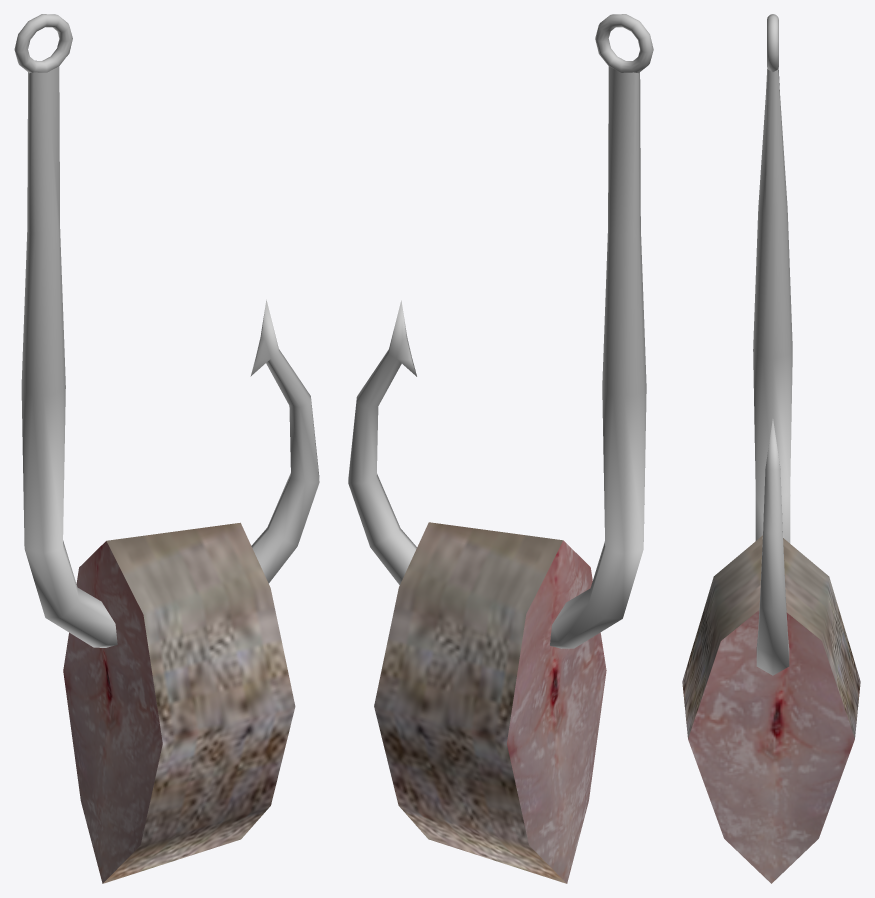
The model's file is Bait_WalleyePollock.fbx.
3 views of the same model, side by side, from view 1: azimuth 30°, elevation 25°; view 2: azimuth 150°, elevation 25°; view 3: azimuth 270°, elevation 25° (orthographic). The views are drawn at different scales.
Visible parts, largest first — view 1: Bait_AlaskaPollockChop; view 2: Bait_AlaskaPollockChop; view 3: Bait_AlaskaPollockChop.
Part boxes in pixels (x1,y1,x2,y2): Bait_AlaskaPollockChop: (14, 14, 319, 883); Bait_AlaskaPollockChop: (348, 14, 653, 883); Bait_AlaskaPollockChop: (682, 14, 860, 883).
Bounding box in the file's own units: 0.2116 × 0.5873 × 0.12.
